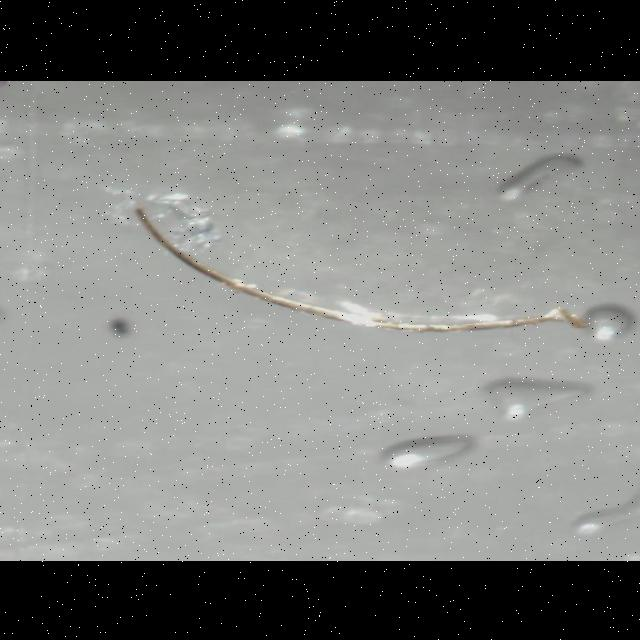Fibre: (130, 202, 588, 332)
